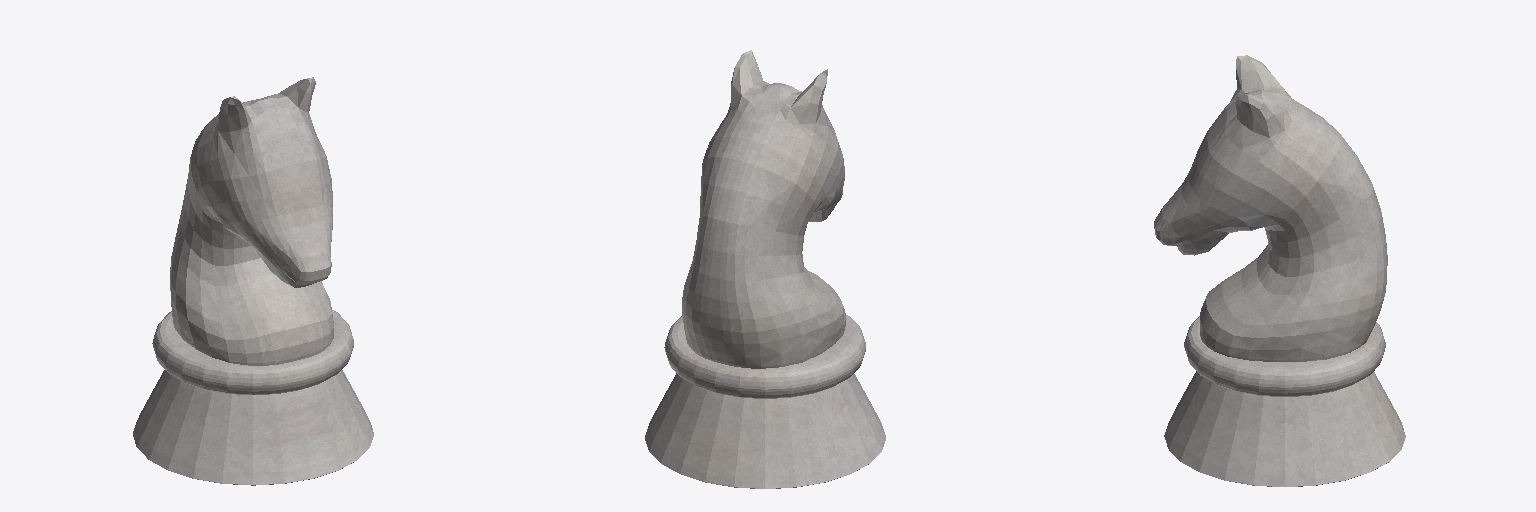
3 views of the same model, side by side, from view 1: azimuth 30°, elevation 25°; view 2: azimuth 150°, elevation 25°; view 3: azimuth 270°, elevation 25° (orthographic).
Parts seen in each view (by area): view 1: knight_Cube; view 2: knight_Cube; view 3: knight_Cube.
Part boxes in pixels (left/top/right/bottom): knight_Cube: left=133, top=77, right=373, bottom=485; knight_Cube: left=645, top=50, right=885, bottom=488; knight_Cube: left=1154, top=55, right=1405, bottom=486.
Bounding box in the file's own units: 0.9172 × 1.51 × 0.9556.
1 materials, 1 textured.